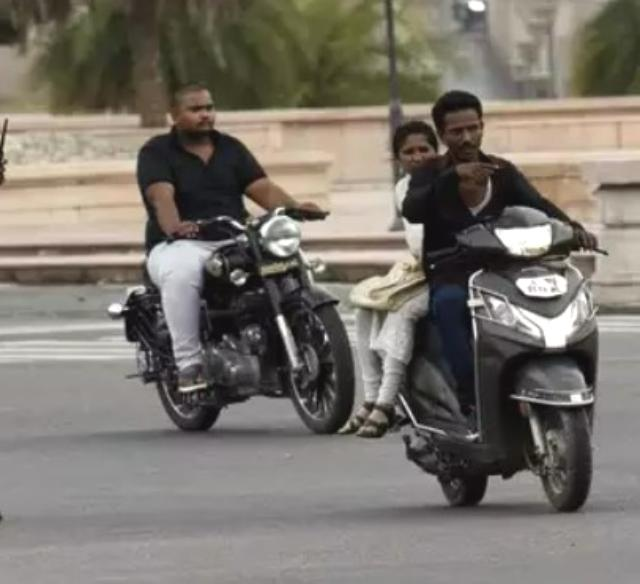licensePlate: (516, 269, 565, 296)
motorcycle: (348, 77, 609, 528), (90, 75, 354, 442)
withoutHelmet: (431, 88, 487, 159), (168, 90, 214, 135), (386, 126, 431, 171)
